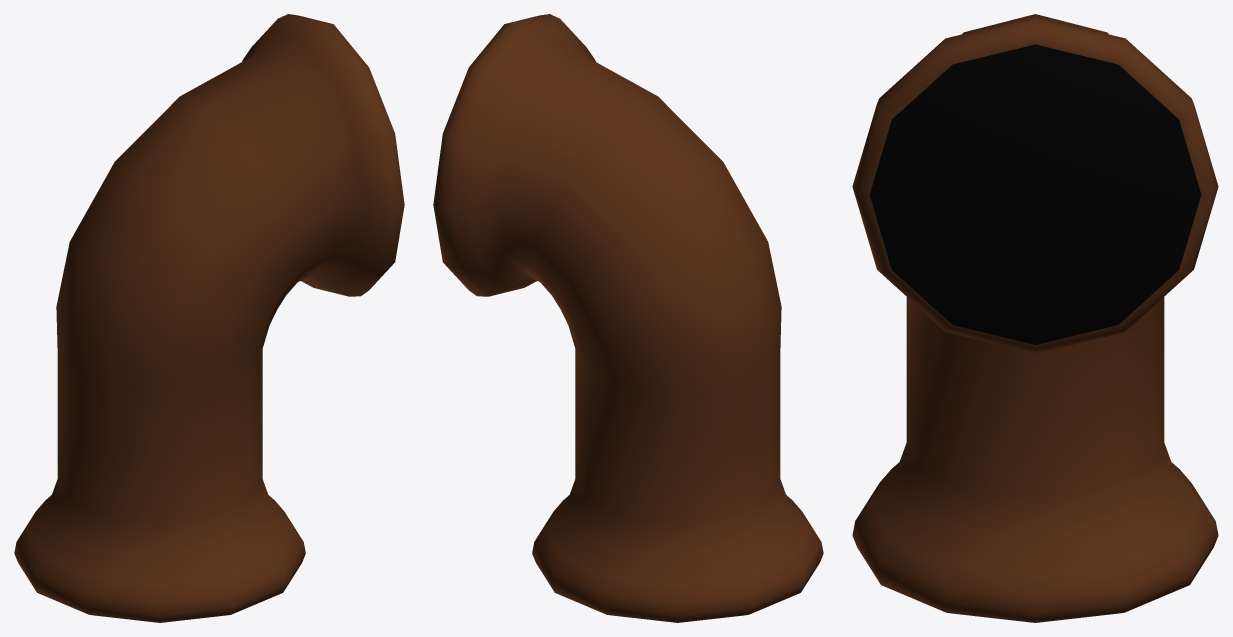
Rendered from Pipe_Curve_05x05_1m.fbx.
The picture shows the model from 3 angles, left to right: view 1: azimuth 30°, elevation 25°; view 2: azimuth 150°, elevation 25°; view 3: azimuth 270°, elevation 25°; orthographic projection. The views are drawn at different scales.
Visible parts, largest first — view 1: Pipe_Curve_05x05_1m; view 2: Pipe_Curve_05x05_1m; view 3: Pipe_Curve_05x05_1m.
Part boxes in pixels (bbox=[...]): Pipe_Curve_05x05_1m: bbox=[14, 14, 404, 622]; Pipe_Curve_05x05_1m: bbox=[433, 14, 823, 622]; Pipe_Curve_05x05_1m: bbox=[852, 14, 1218, 622].
Bounding box in the file's own units: 85.53 × 136 × 71.06.
